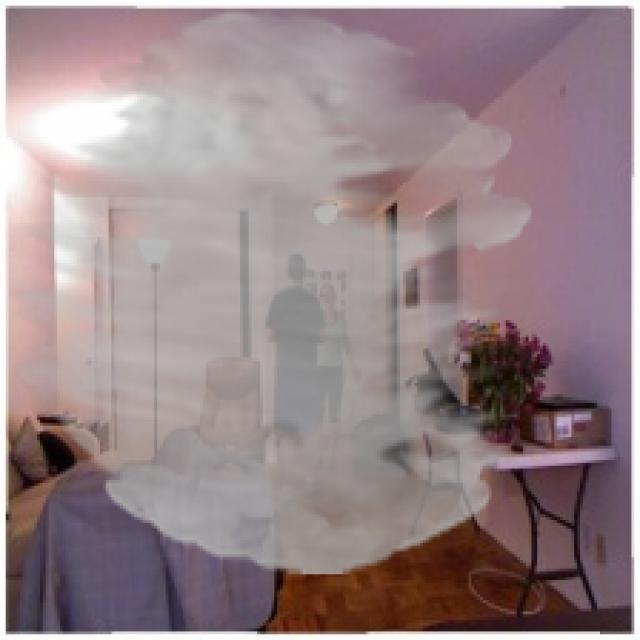smoke: (9, 9, 532, 574)
